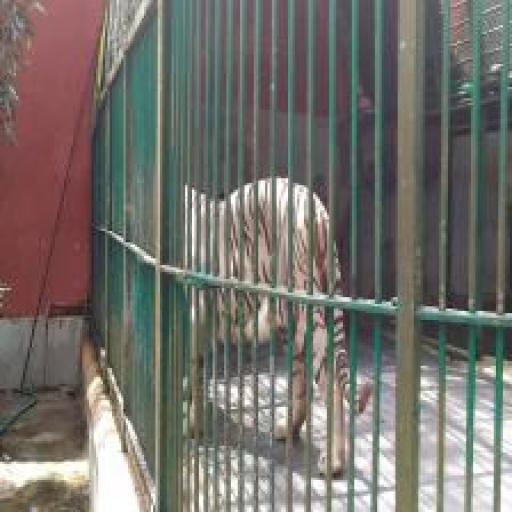Tiger: (185, 169, 375, 477)
